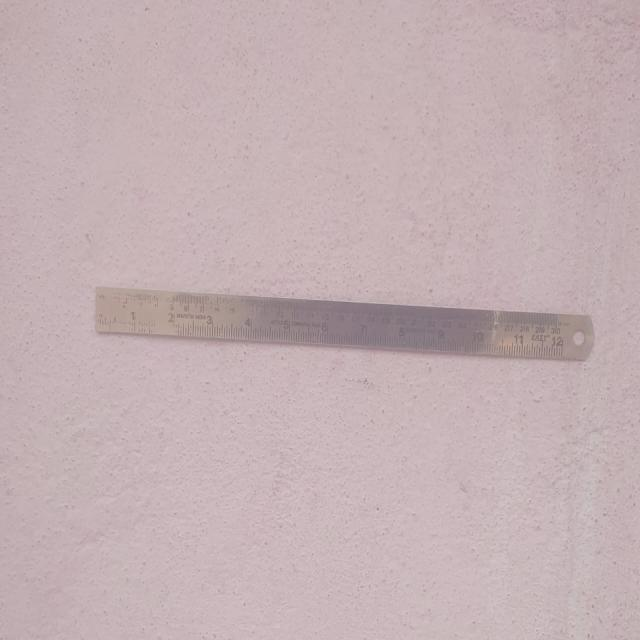scale: (100, 288, 596, 359)
